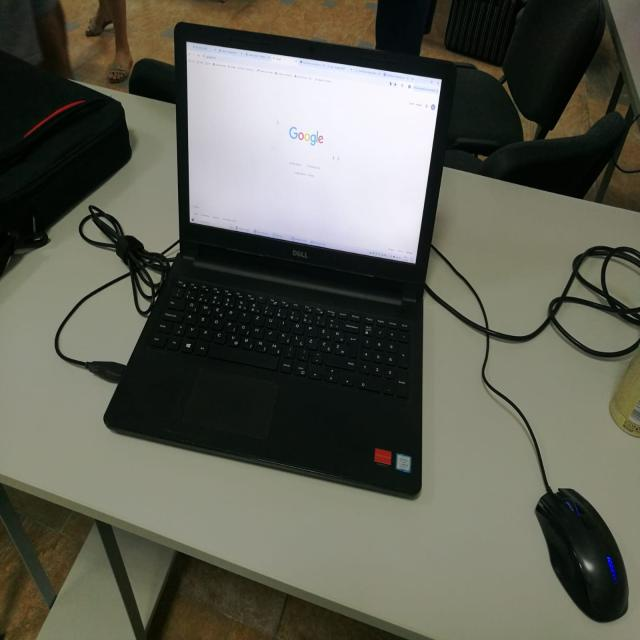Laptops_bbox: (39, 14, 530, 518)
